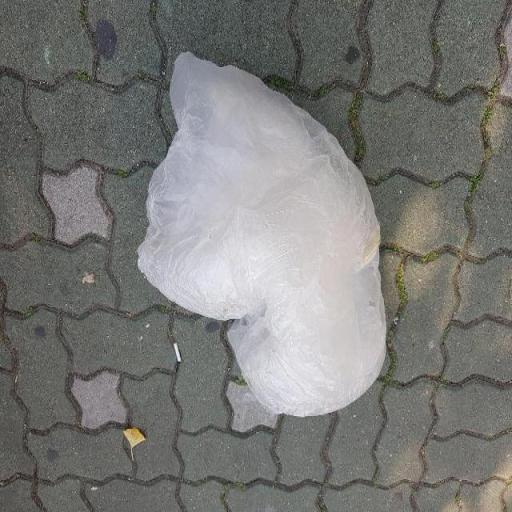plastic-bag: (134, 50, 392, 420)
